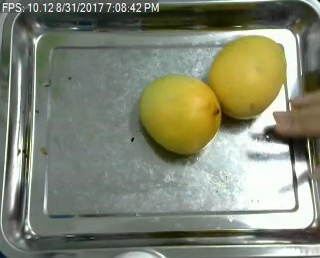Mango: (208, 33, 288, 119), (141, 72, 219, 156)
